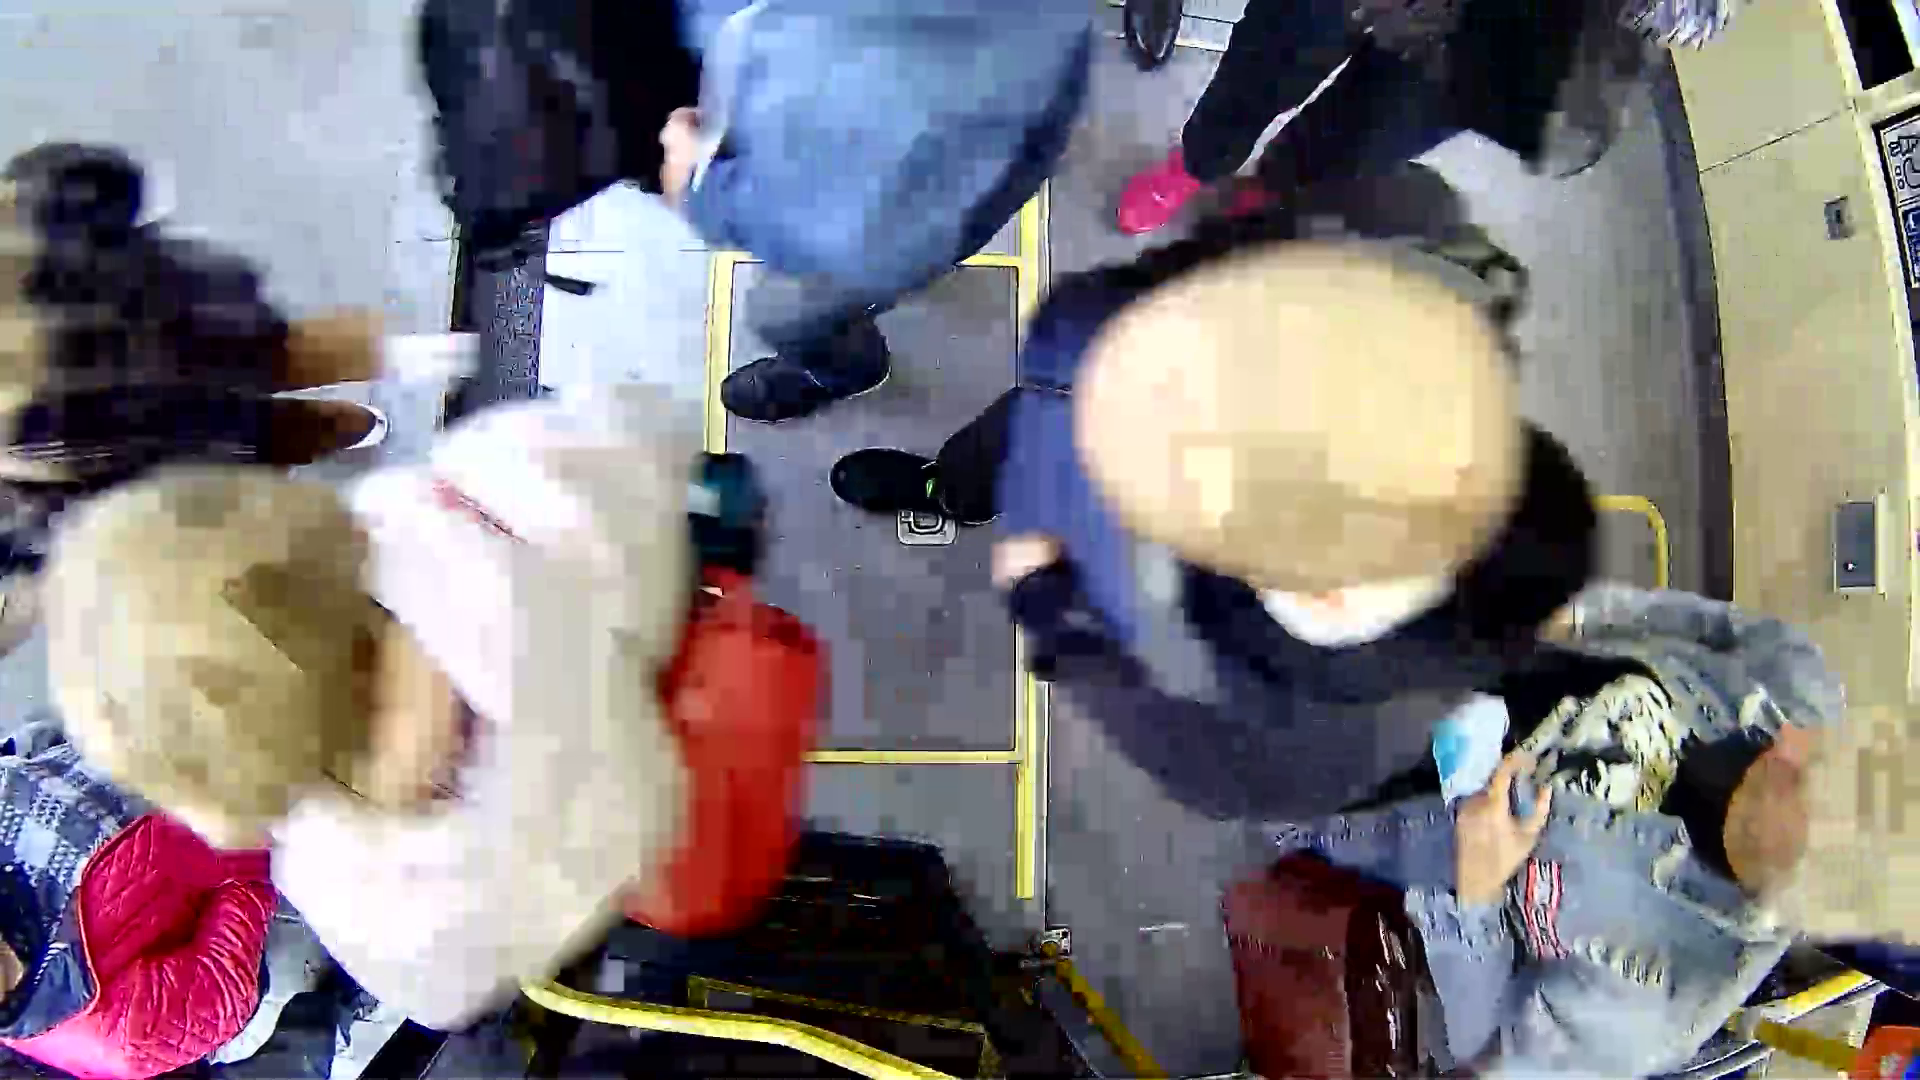person: (78, 419, 834, 941), (1011, 218, 1582, 799)
